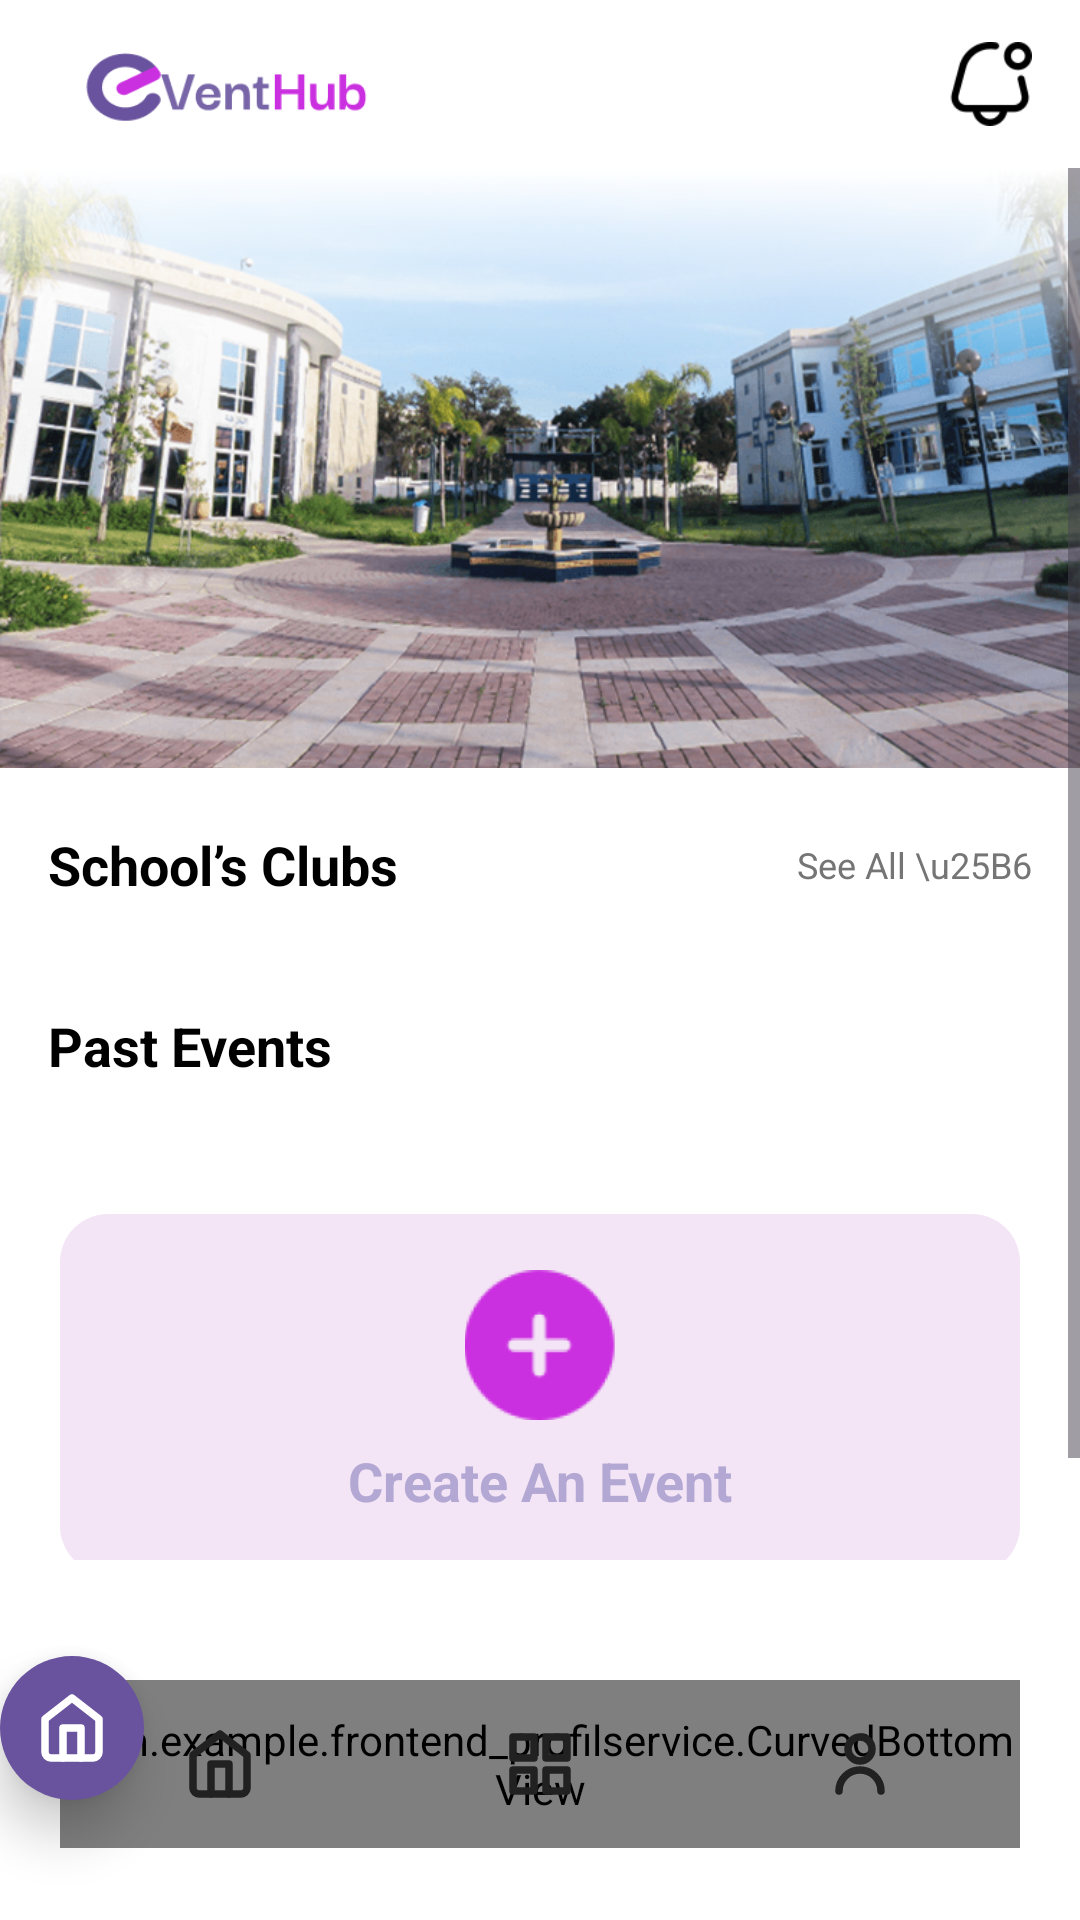

Where icons sit on this 1080px x 1920px app screen, as box=[x1, y1, x2, y2]:
dashboard: box=[504, 1728, 576, 1800]
home: box=[41, 1694, 103, 1762], box=[184, 1730, 256, 1798]
notification: box=[950, 42, 1032, 126]
plus: box=[465, 1270, 615, 1420]
profile: box=[832, 1728, 896, 1795]
